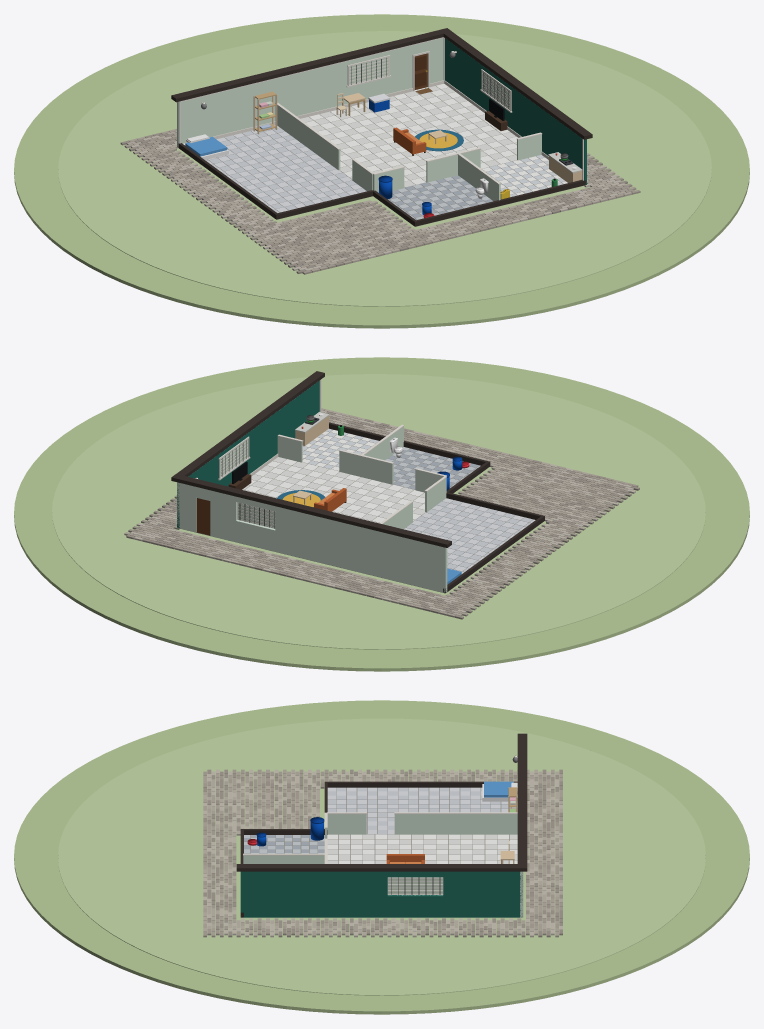
The model's file is one-bedroom.glb.
3 renders of one model, top to bottom at view 1: azimuth 30°, elevation 25°; view 2: azimuth 150°, elevation 25°; view 3: azimuth 270°, elevation 25°, orthographic.
Parts seen in each view (by area): view 1: GrassInner.001, GrassInner, Grass, ParlourTile0, ParlourTile1, Pavers4, Pavers0, Pavers3, BedTile0, BedTile1, Pavers2, Pavers1 (+25 smaller); view 2: GrassInner, GrassInner.001, Grass, Pavers2, Pavers4, Pavers3, Pavers0, Pavers1, BackWall.006, BackWall, ParlourTile0, ParlourTile1 (+23 smaller); view 3: GrassInner.001, GrassInner, Grass, Pavers2, Pavers3, Pavers0, Pavers4, Pavers1, Wall, Wall.005, BedTile0, Wall.004 (+15 smaller).
Part boxes in pixels (<box>): GrassInner.001: <box>64,31,711,304</box>; GrassInner: <box>58,32,705,306</box>; Grass: <box>14,14,749,328</box>; ParlourTile0: <box>305,84,517,187</box>; ParlourTile1: <box>300,86,516,187</box>; Pavers4: <box>124,129,636,272</box>; Pavers0: <box>131,135,625,270</box>; Pavers3: <box>126,131,632,266</box>; BedTile0: <box>206,125,361,212</box>; BedTile1: <box>205,128,366,212</box>; Pavers2: <box>120,133,627,273</box>; Pavers1: <box>143,138,640,274</box>; GrassInner: <box>58,375,705,649</box>; GrassInner.001: <box>52,374,699,646</box>; Grass: <box>14,357,749,671</box>; Pavers2: <box>126,412,639,619</box>; Pavers4: <box>124,408,629,617</box>; Pavers3: <box>139,409,617,615</box>; Pavers0: <box>130,410,635,612</box>; Pavers1: <box>135,420,638,609</box>; BackWall.006: <box>346,524,447,592</box>; BackWall: <box>275,506,348,569</box>; ParlourTile0: <box>242,459,424,522</box>; ParlourTile1: <box>243,457,425,523</box>; GrassInner.001: <box>58,721,705,995</box>; GrassInner: <box>58,718,705,992</box>; Grass: <box>14,700,749,1014</box>; Pavers2: <box>203,769,562,937</box>; Pavers3: <box>203,769,562,937</box>; Pavers0: <box>203,769,562,937</box>; Pavers4: <box>203,769,562,937</box>; Pavers1: <box>203,769,562,937</box>; Wall: <box>240,871,327,917</box>; Wall.005: <box>443,871,522,917</box>; BedTile0: <box>327,787,517,834</box>; Wall.004: <box>324,871,387,917</box>.
Bounding box in the file's own units: 42.16 × 3.68 × 42.16.
